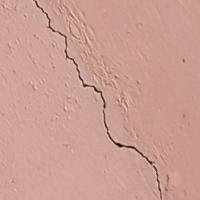crack: (31, 1, 169, 199)
